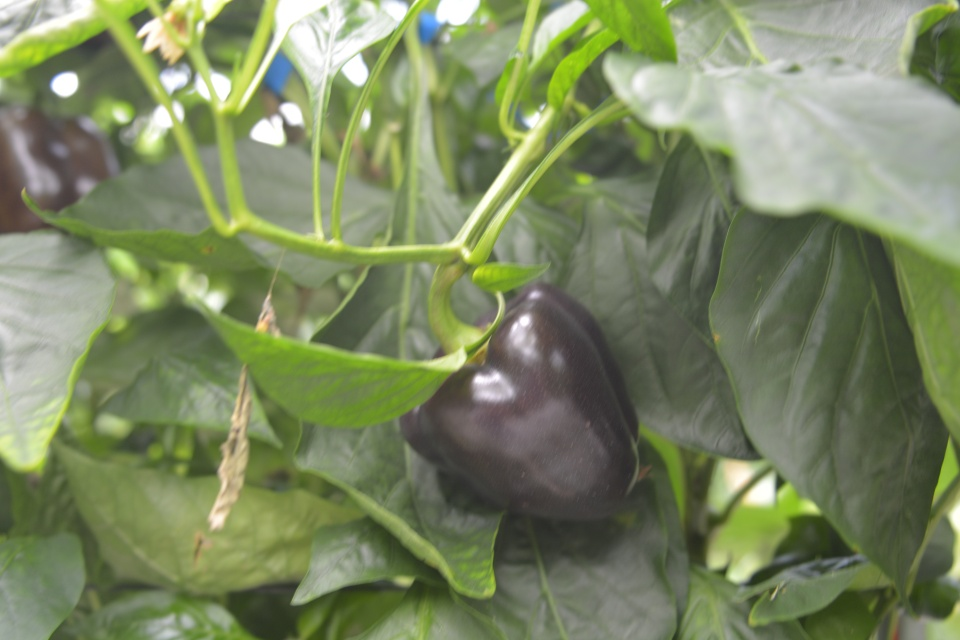fruit: (395, 279, 646, 530), (0, 98, 124, 236)
